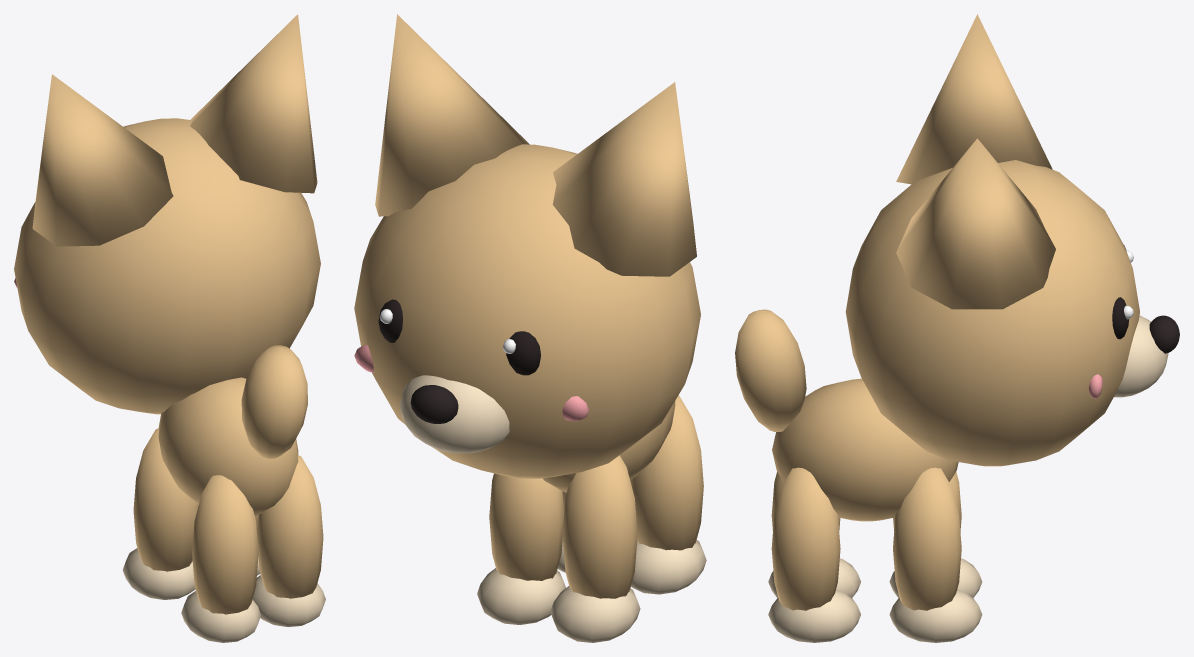
The model's file is dog_chihuahua.glb.
The picture shows the model from 3 angles, left to right: view 1: azimuth 30°, elevation 25°; view 2: azimuth 150°, elevation 25°; view 3: azimuth 270°, elevation 25°; orthographic projection. The views are drawn at different scales.
Visible parts, largest first — view 1: Head, EarL, EarR, Body, LegBL, LegBR, LegFL, Tail, LegBLPaw, LegFLPaw, LegBRPaw; view 2: Head, EarL, EarR, LegFL, LegBL, LegFR, Snout, LegFLPaw, LegFRPaw, LegBLPaw, Body, Nose (+3 smaller); view 3: Head, EarR, Body, EarL, LegFR, LegBR, Tail, LegBRPaw, LegFRPaw, Snout, Nose, LegBLPaw (+1 smaller).
Part boxes in pixels (x1,y1,x2,y2): Head: (14,118,320,414); EarL: (32,74,173,246); EarR: (190,14,317,193); Body: (158,377,298,515); LegBL: (192,475,258,614); LegBR: (257,455,323,598); LegFL: (133,428,198,571); Tail: (241,345,307,458); LegBLPaw: (181,591,260,642); LegFLPaw: (123,548,195,599); LegBRPaw: (252,575,325,626); Head: (354,144,700,478); EarL: (552,82,696,276); EarR: (375,14,529,216); LegFL: (562,455,637,598); LegBL: (630,395,703,550); LegFR: (489,473,564,580); Snout: (399,375,509,453); LegFLPaw: (550,586,640,642); LegFRPaw: (477,568,565,624); LegBLPaw: (631,540,706,594); Body: (543,401,675,492); Nose: (410,385,458,423); Head: (845,160,1139,466); EarR: (896,138,1055,309); Body: (772,378,958,521); EarL: (896,14,1052,184); LegFR: (893,467,961,610); LegBR: (771,467,840,610); Tail: (735,309,806,431); LegBRPaw: (768,589,860,642); LegFRPaw: (889,589,982,642); Snout: (1114,315,1168,397); Nose: (1149,315,1179,353); LegBLPaw: (768,558,860,597).
Bounding box in the file's own units: 0.4824 × 0.9061 × 0.6698.
